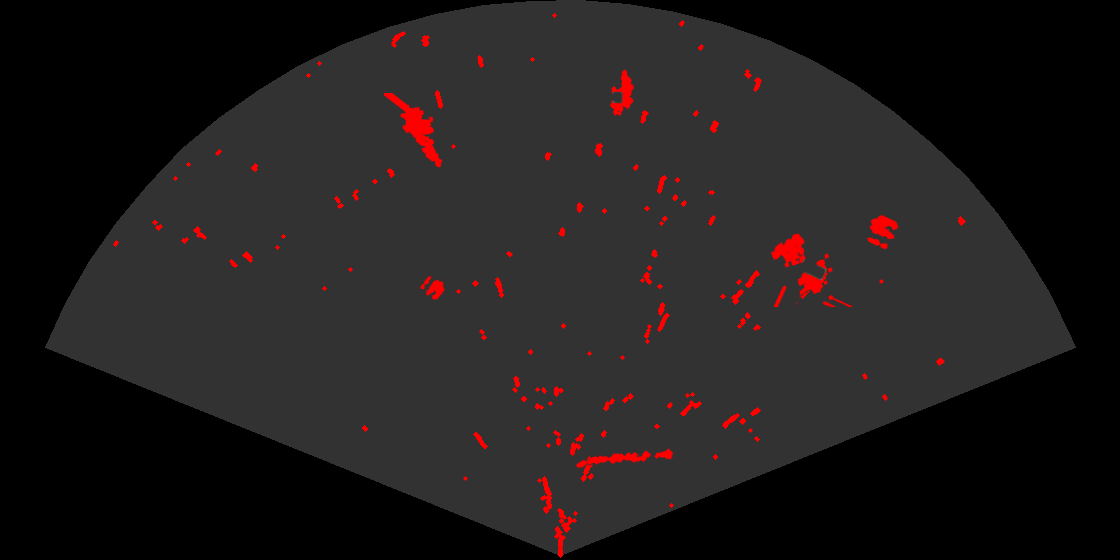AUV: (609, 68, 635, 117)
ball: (866, 213, 900, 251), (419, 274, 446, 301)
cage: (770, 232, 854, 307)
chain: (574, 447, 675, 469)
frogman: (384, 93, 444, 169)
